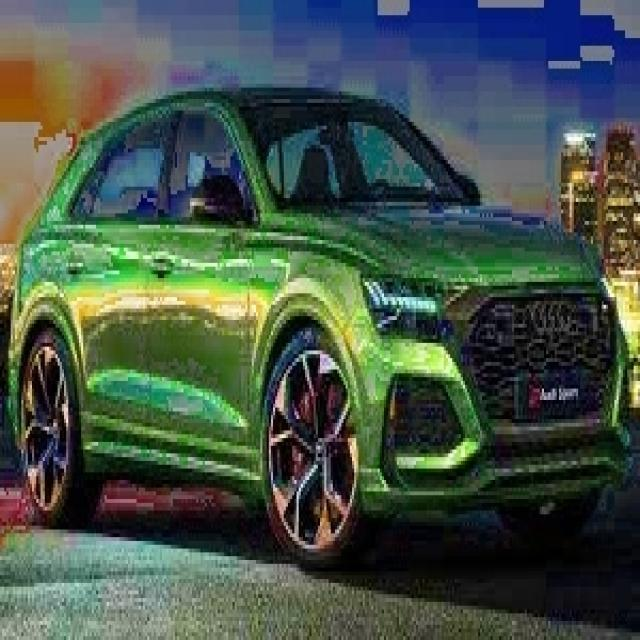green: (12, 91, 622, 556)
